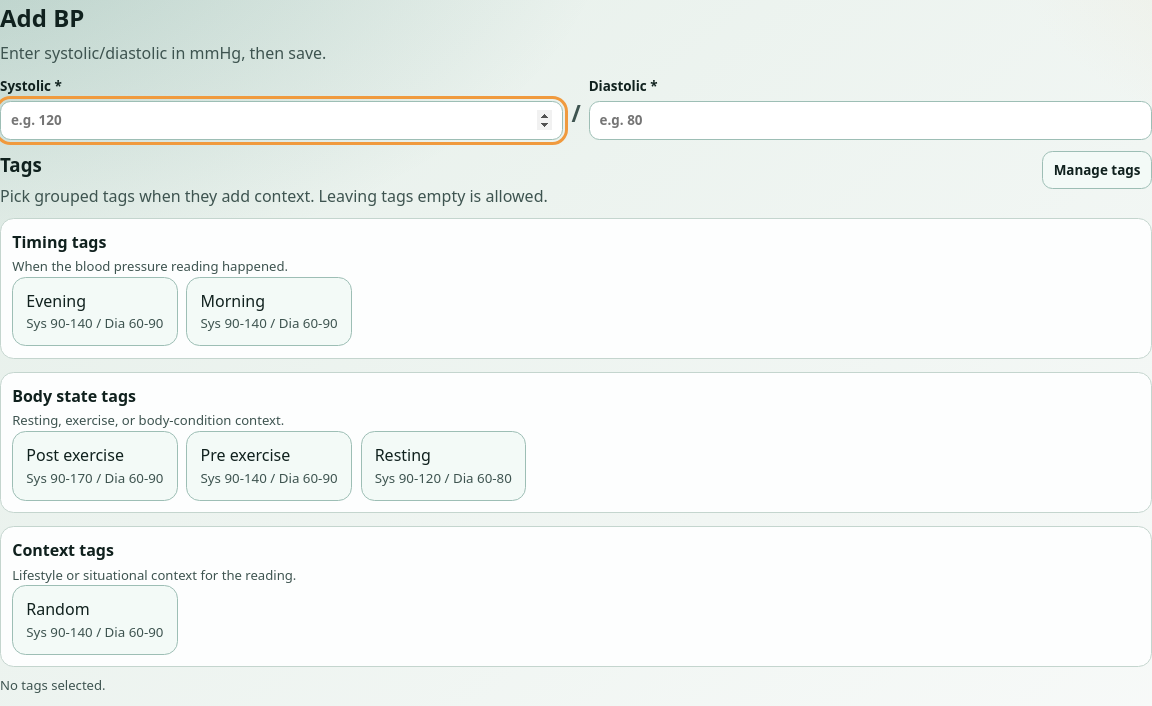
Scenario: Reading forms › rejects an invalid blood pressure combination
Type "110" into the number field labelled "Systolic *". click: (282, 120)
box: [0,100,563,140]
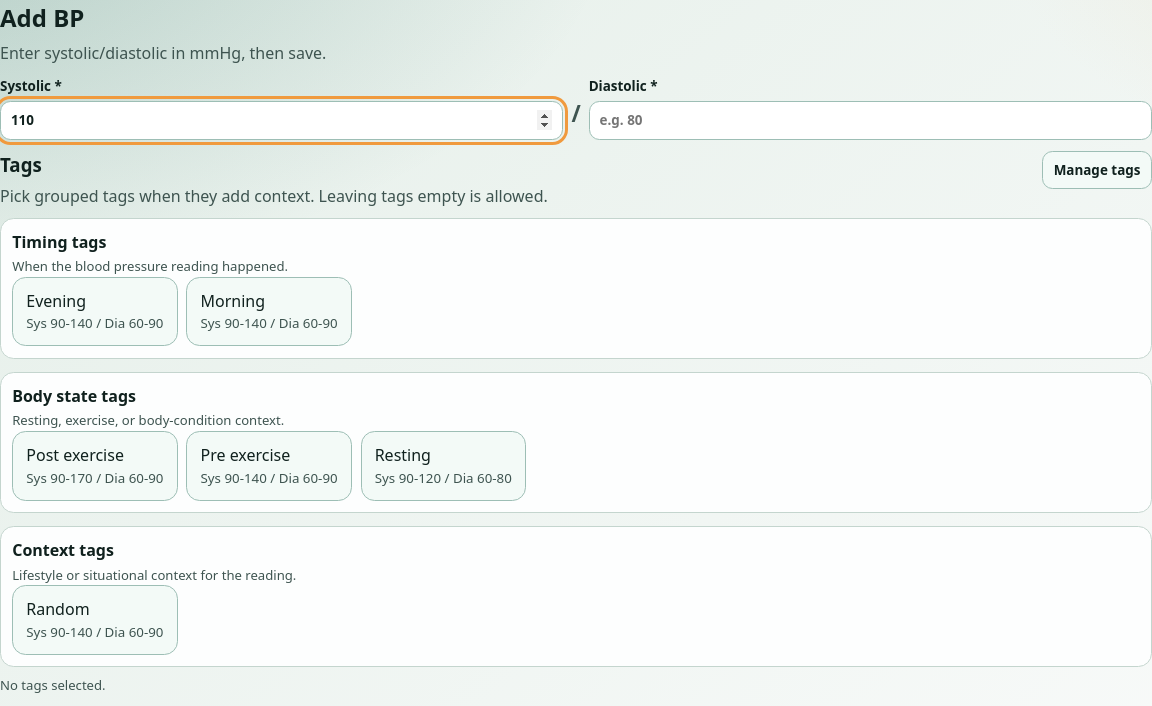
Type "120" into the number field labelled "Diastolic *". click: (870, 120)
box: [589,100,1151,140]
(page scrolled)
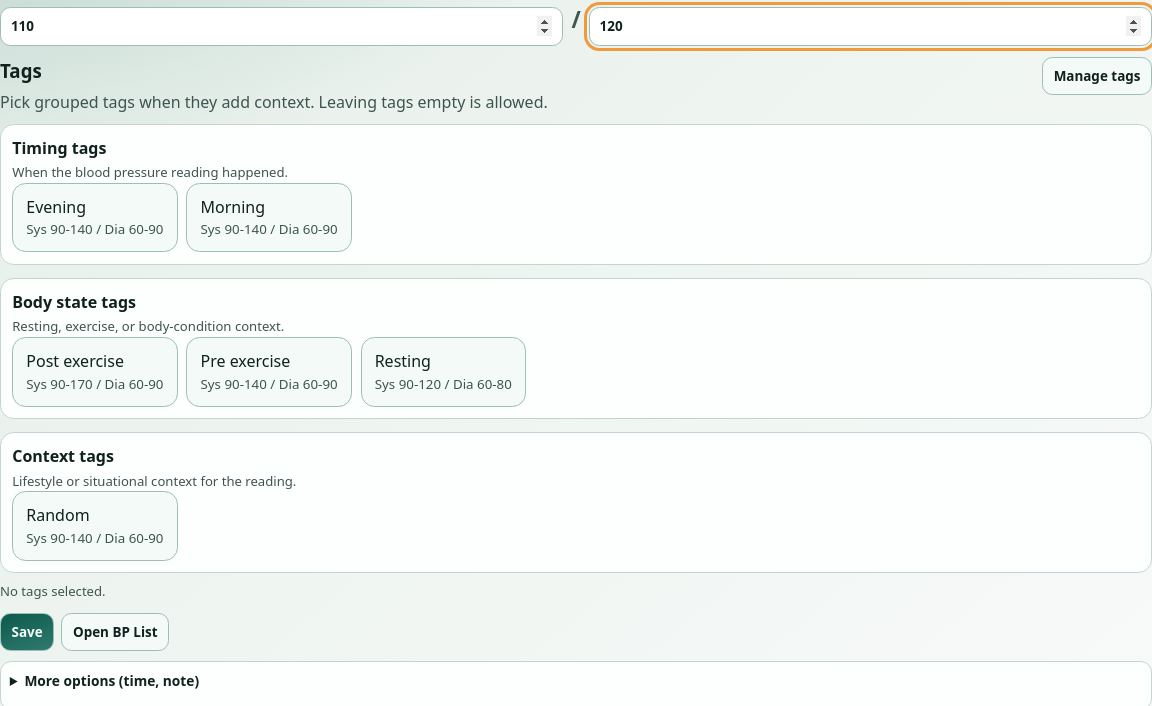
Click the button "Save". click: (27, 632)
box: [0,612,54,651]
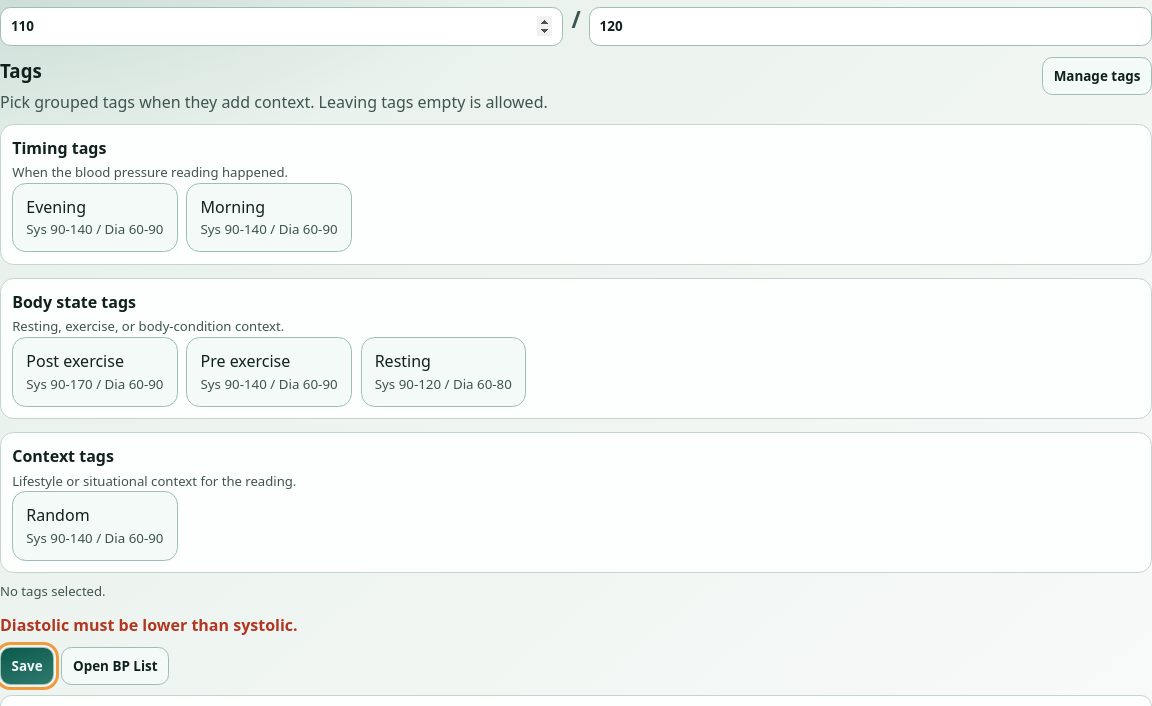
Check: the text "Diastolic must be lower than systolic." is shown, box [0,614,298,636]
